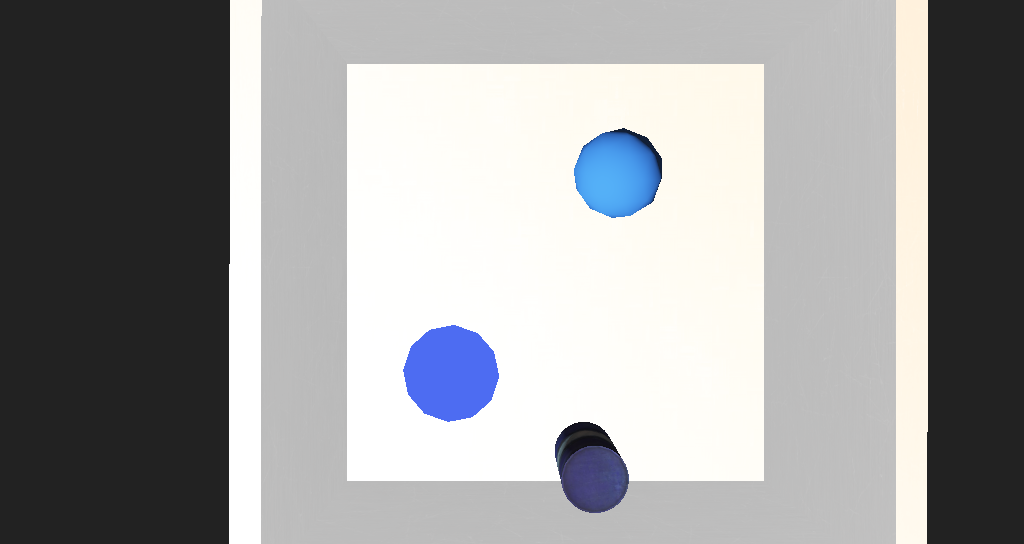cone: (509, 346, 556, 389)
cylinder: (401, 291, 475, 339)
sphere: (522, 198, 583, 241)
